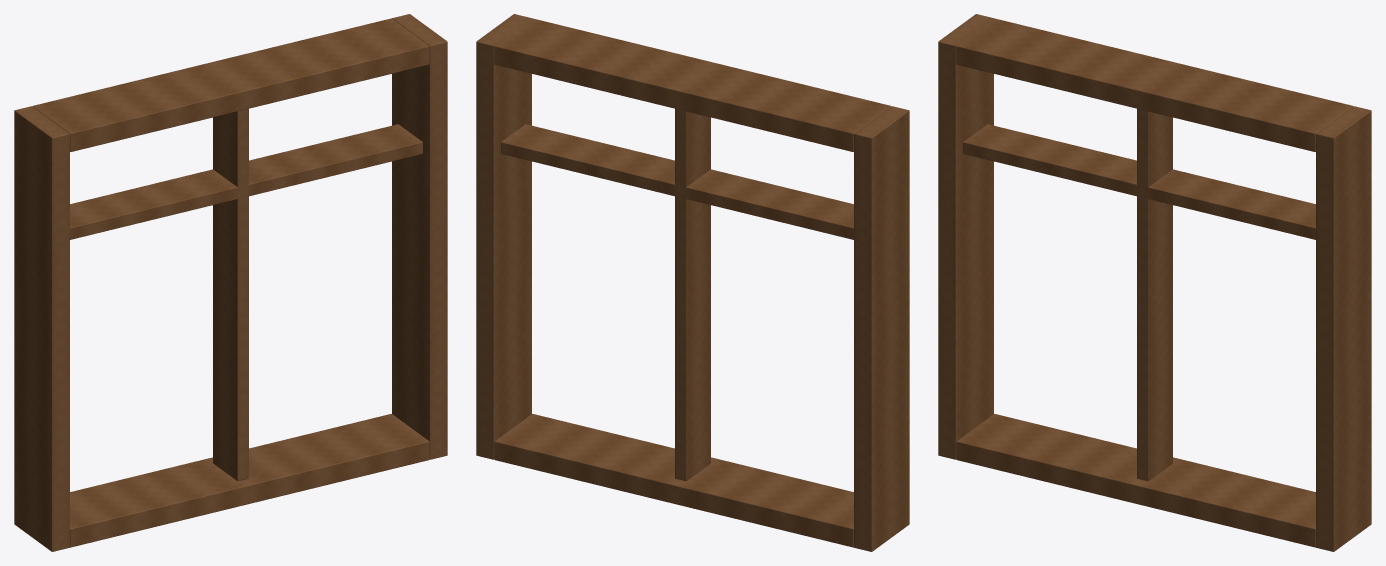
Rendered from MH_Window_Wood_Frame_1p2m.fbx.
3 views of the same model, side by side, from view 1: azimuth 30°, elevation 25°; view 2: azimuth 150°, elevation 25°; view 3: azimuth 330°, elevation 25° (orthographic).
Visible parts, largest first — view 1: Body; view 2: Body; view 3: Body.
Part boxes in pixels (bbox=[...]): Body: bbox=[14, 14, 447, 551]; Body: bbox=[476, 14, 909, 551]; Body: bbox=[938, 14, 1371, 551].
Bounding box in the file's own units: 1.2 × 1.2 × 0.2.
